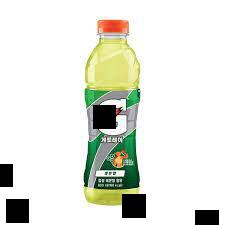gatorade_lemon: (76, 15, 149, 206)
